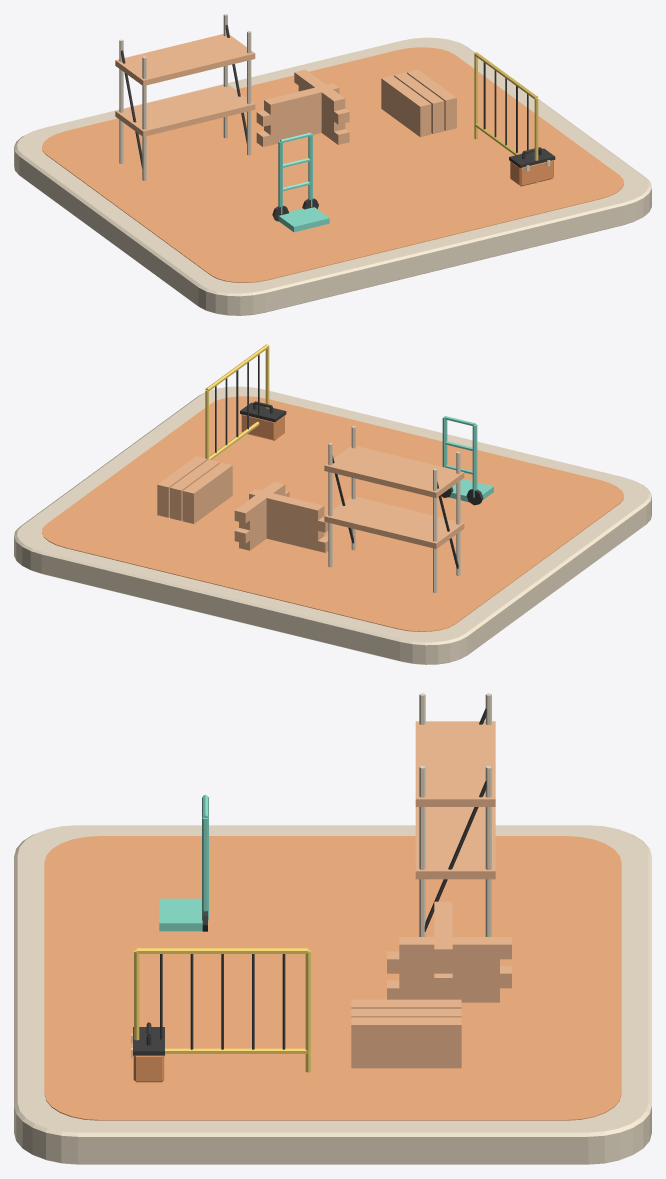
File: room.fbx
3 renders of one model, top to bottom at view 1: azimuth 30°, elevation 25°; view 2: azimuth 150°, elevation 25°; view 3: azimuth 270°, elevation 25°, orthographic. The views are drawn at different scales.
Parts seen in each view (by area): view 1: COM-02 Floor Surface, COM-01 Rounded Base Direct, Platform.001, Platform, Timber.006, Loading plate, Box, Timber.007, Timber.008, Upright.002, Upright, Timber (+3 smaller); view 2: COM-02 Floor Surface, COM-01 Rounded Base Direct, Platform.001, Platform, Timber.006, Box, Timber.007, Timber.008, Upright.003, Upright.001, Timber.003, Timber (+3 smaller); view 3: COM-02 Floor Surface, COM-01 Rounded Base Direct, Platform.001, Platform, Timber.008, Timber.002, Timber.005, Loading plate, Timber.006, Timber.007, Upright.002, Upright.003 (+8 smaller).
Boxes of the visible parts, x1=… form: COM-02 Floor Surface: x1=42, y1=47, x2=623, y2=282; COM-01 Rounded Base Direct: x1=14, y1=37, x2=651, y2=315; Platform.001: x1=115, y1=34, x2=255, y2=85; Platform: x1=115, y1=84, x2=255, y2=136; Timber.006: x1=381, y1=75, x2=431, y2=116; Loading plate: x1=278, y1=207, x2=329, y2=232; Box: x1=510, y1=160, x2=553, y2=186; Timber.007: x1=394, y1=72, x2=444, y2=113; Timber.008: x1=407, y1=69, x2=456, y2=110; Upright.002: x1=247, y1=31, x2=251, y2=155; Upright: x1=142, y1=56, x2=146, y2=180; Timber: x1=381, y1=99, x2=431, y2=137; COM-02 Floor Surface: x1=42, y1=396, x2=623, y2=631; COM-01 Rounded Base Direct: x1=14, y1=386, x2=651, y2=664; Platform.001: x1=324, y1=446, x2=464, y2=498; Platform: x1=324, y1=496, x2=464, y2=548; Timber.006: x1=182, y1=462, x2=232, y2=503; Box: x1=241, y1=414, x2=284, y2=440; Timber.007: x1=170, y1=459, x2=219, y2=500; Timber.008: x1=157, y1=456, x2=207, y2=497; Upright.003: x1=328, y1=443, x2=332, y2=567; Upright.001: x1=433, y1=468, x2=437, y2=592; Timber.003: x1=182, y1=475, x2=232, y2=513; Timber: x1=182, y1=486, x2=232, y2=523; COM-02 Floor Surface: x1=44, y1=836, x2=621, y2=1120; COM-01 Rounded Base Direct: x1=14, y1=825, x2=651, y2=1164; Platform.001: x1=415, y1=721, x2=495, y2=806; Platform: x1=415, y1=807, x2=495, y2=879; Timber.008: x1=351, y1=1017, x2=461, y2=1039; Timber.002: x1=351, y1=1054, x2=461, y2=1068; Timber.005: x1=351, y1=1039, x2=461, y2=1053; Loading plate: x1=159, y1=898, x2=202, y2=931; Timber.006: x1=351, y1=999, x2=461, y2=1008; Timber.007: x1=351, y1=1008, x2=461, y2=1017; Upright.002: x1=419, y1=766, x2=425, y2=936; Upright.003: x1=485, y1=766, x2=491, y2=936.
Bounding box in the file's own units: 600 × 187 × 520.
